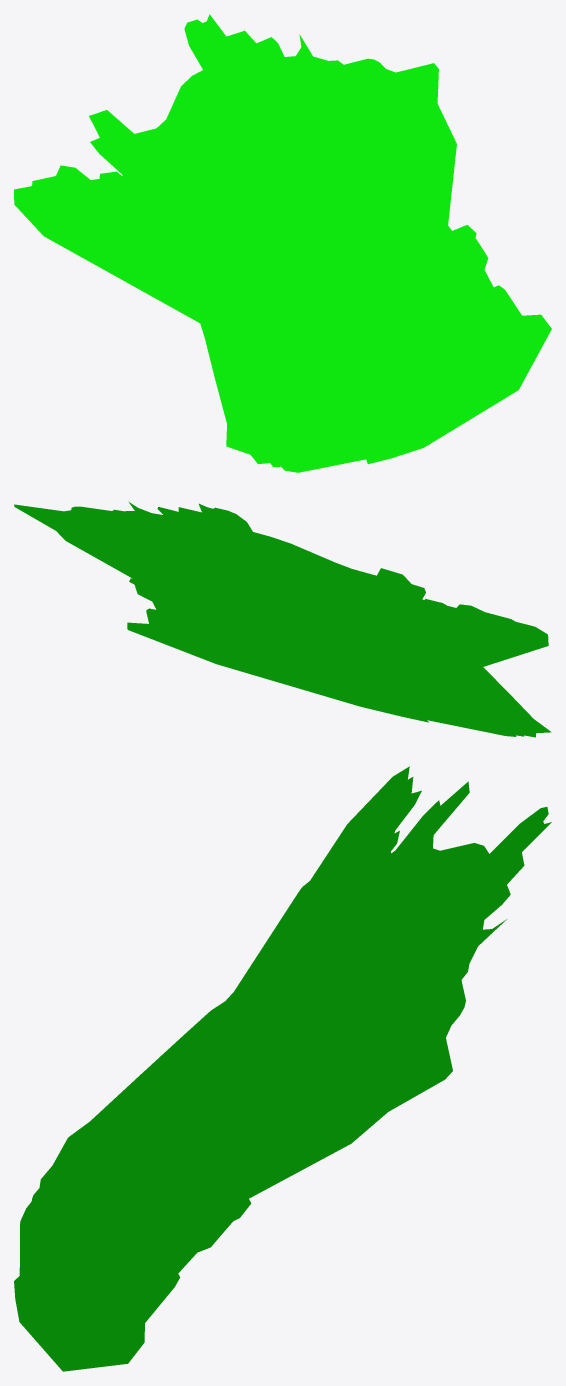
The picture shows the model from 3 angles, top to bottom: view 1: azimuth 30°, elevation 25°; view 2: azimuth 150°, elevation 25°; view 3: azimuth 270°, elevation 25°; orthographic projection. The views are drawn at different scales.
Visible parts, largest first — view 1: FR; view 2: FR; view 3: FR.
Part boxes in pixels (x1,y1,x2,y2): FR: (14,14,551,472); FR: (14,502,551,737); FR: (14,766,551,1371).
Size of the model in its own units: 15.45 by 10.33 by 10.61.
